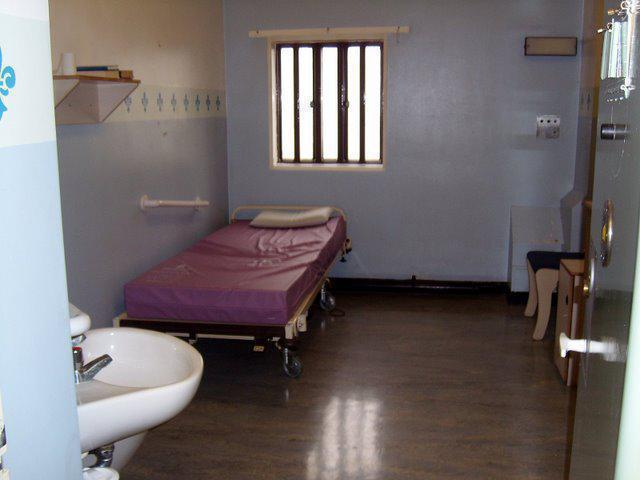Cama: (108, 201, 344, 319)
Lavamanos: (69, 306, 210, 461)
Ventana: (263, 32, 388, 171)
